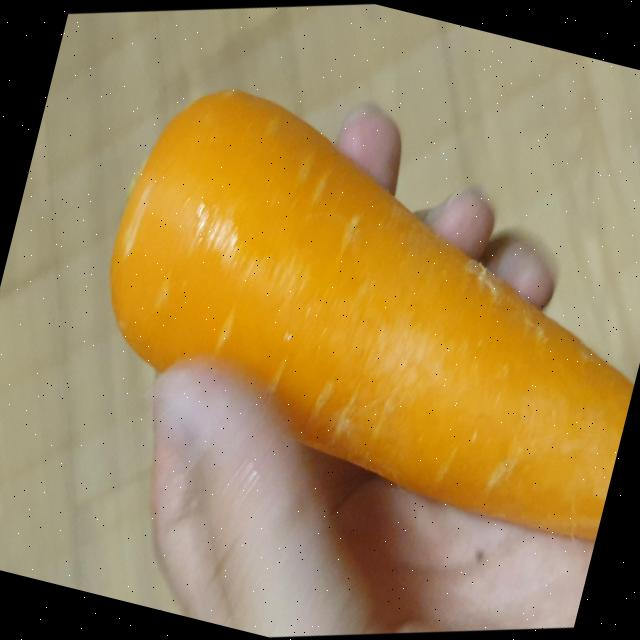carrot: (110, 91, 633, 539)
